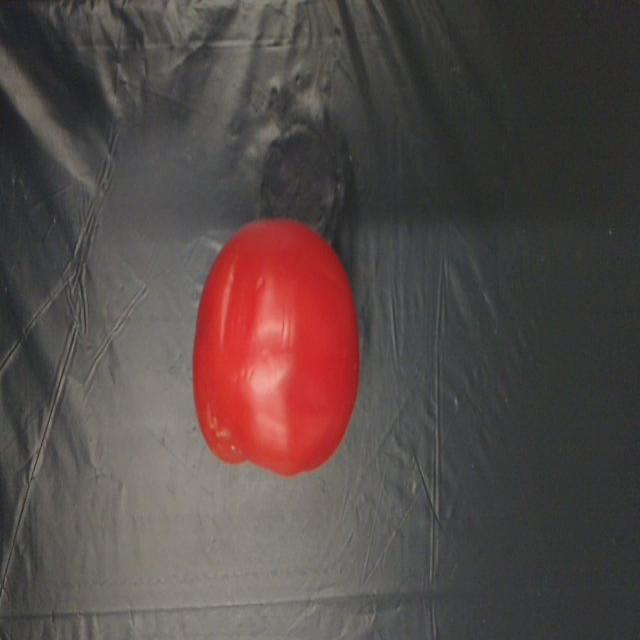kirmizi: (186, 218, 420, 482)
